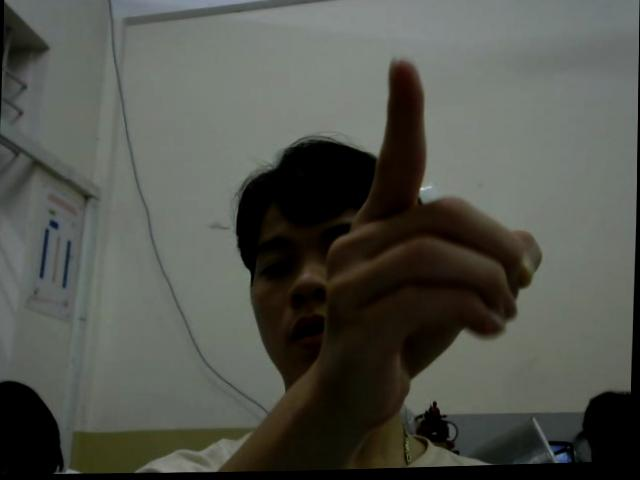D: (319, 53, 548, 434)
